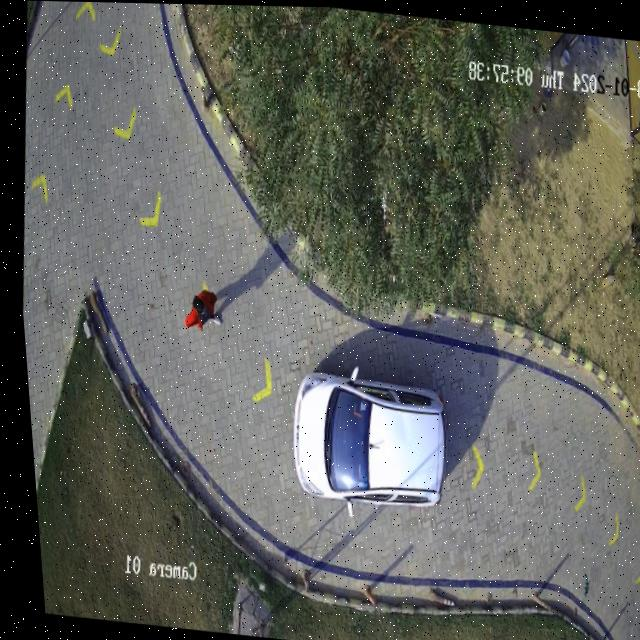car: (285, 366, 440, 507)
